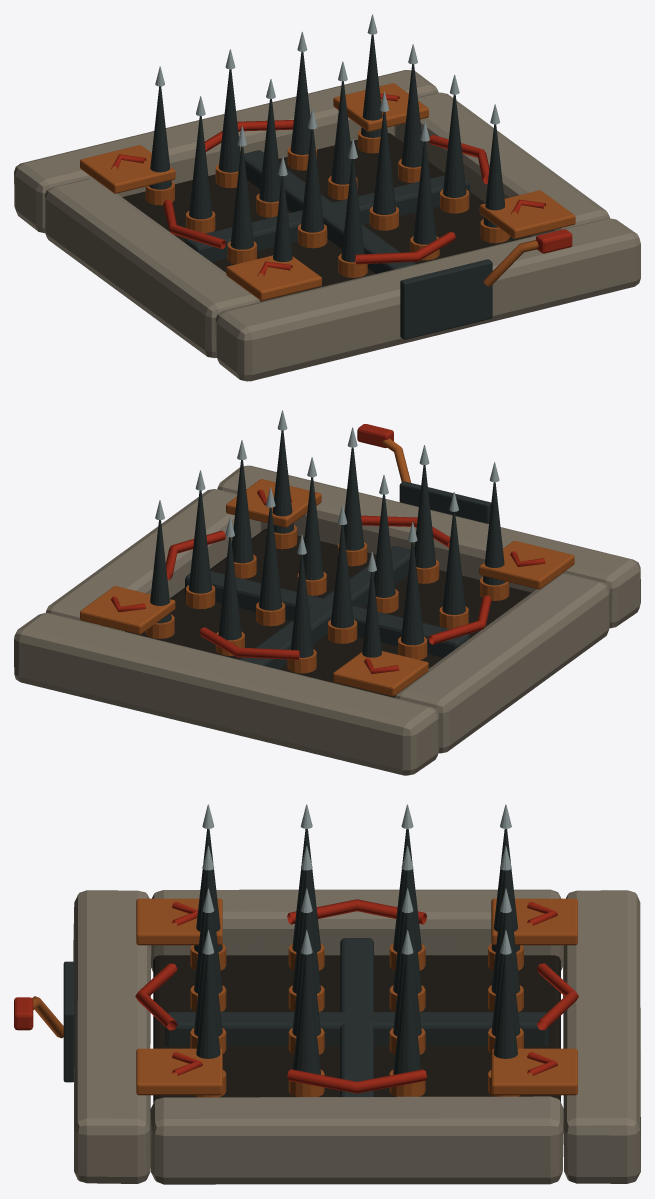
Rendered from spike_trap_LOD0.glb.
3 views of the same model, one above another, from view 1: azimuth 30°, elevation 25°; view 2: azimuth 150°, elevation 25°; view 3: azimuth 270°, elevation 25° (orthographic). The views are drawn at different scales.
Parts seen in each view (by area): view 1: SpikeTrapKerbSouth, SpikeTrapKerbWest, SpikeTrapKerbNorth, SpikeTrapMechanismPit, SpikeTrapKerbEast, SpikeTrapInspectionHatch, SpikeRackCrossFrameX, SpikeRackCrossFrameY, SpikeTrapPressurePlate, SpikeTrapPressurePlate.001, SpikeTrapPressurePlate.003, SpikeTrapPressurePlate.002 (+24 smaller); view 2: SpikeTrapKerbNorth, SpikeTrapKerbWest, SpikeTrapKerbSouth, SpikeTrapMechanismPit, SpikeTrapKerbEast, SpikeRackCrossFrameX, SpikeRackCrossFrameY, SpikeTrapPressurePlate.003, SpikeTrapPressurePlate.002, SpikeTrapPressurePlate, SpikeTrapPressurePlate.001, SpikeTrapInspectionHatch (+22 smaller); view 3: SpikeTrapKerbEast, SpikeTrapMechanismPit, SpikeTrapKerbNorth, SpikeTrapKerbSouth, SpikeTrapKerbWest, SpikeRackCrossFrameY, SpikeRackCrossFrameX, SpikeTrapPressurePlate.002, SpikeTrapPressurePlate.001, SpikeTrapPressurePlate, SpikeTrapPressurePlate.003, SpikeTrapForgedSpike.014 (+22 smaller).
Boxes of the visible parts, x1=… form: SpikeTrapKerbSouth: x1=215, y1=218, x2=640, y2=381; SpikeTrapKerbWest: x1=44, y1=178, x2=260, y2=358; SpikeTrapKerbNorth: x1=14, y1=70, x2=438, y2=233; SpikeTrapMechanismPit: x1=122, y1=133, x2=530, y2=301; SpikeTrapKerbEast: x1=394, y1=92, x2=609, y2=236; SpikeTrapInspectionHatch: x1=400, y1=259, x2=492, y2=339; SpikeRackCrossFrameX: x1=185, y1=175, x2=470, y2=261; SpikeRackCrossFrameY: x1=244, y1=150, x2=415, y2=273; SpikeTrapPressurePlate: x1=226, y1=255, x2=321, y2=300; SpikeTrapPressurePlate.001: x1=479, y1=190, x2=575, y2=238; SpikeTrapPressurePlate.003: x1=80, y1=145, x2=175, y2=193; SpikeTrapPressurePlate.002: x1=333, y1=83, x2=428, y2=131; SpikeTrapKerbNorth: x1=14, y1=613, x2=439, y2=775; SpikeTrapKerbWest: x1=395, y1=573, x2=609, y2=753; SpikeTrapKerbSouth: x1=217, y1=465, x2=640, y2=628; SpikeTrapMechanismPit: x1=125, y1=528, x2=531, y2=697; SpikeTrapKerbEast: x1=46, y1=489, x2=261, y2=631; SpikeRackCrossFrameX: x1=185, y1=571, x2=469, y2=657; SpikeRackCrossFrameY: x1=239, y1=546, x2=410, y2=669; SpikeTrapPressurePlate.003: x1=333, y1=651, x2=428, y2=696; SpikeTrapPressurePlate.002: x1=80, y1=586, x2=175, y2=634; SpikeTrapPressurePlate: x1=479, y1=541, x2=574, y2=589; SpikeTrapPressurePlate.001: x1=226, y1=479, x2=321, y2=527; SpikeTrapInspectionHatch: x1=399, y1=481, x2=491, y2=523; SpikeTrapKerbEast: x1=150, y1=1096, x2=563, y2=1184; SpikeTrapMechanismPit: x1=153, y1=955, x2=560, y2=1102; SpikeTrapKerbNorth: x1=563, y1=890, x2=640, y2=1183; SpikeTrapKerbSouth: x1=73, y1=890, x2=151, y2=1183; SpikeTrapKerbWest: x1=151, y1=889, x2=563, y2=971; SpikeRackCrossFrameY: x1=165, y1=1012, x2=548, y2=1046; SpikeRackCrossFrameX: x1=340, y1=938, x2=373, y2=1096; SpikeTrapPressurePlate.002: x1=491, y1=1048, x2=577, y2=1095; SpikeTrapPressurePlate.001: x1=136, y1=1048, x2=222, y2=1095; SpikeTrapPressurePlate: x1=136, y1=898, x2=222, y2=945; SpikeTrapPressurePlate.003: x1=491, y1=898, x2=577, y2=945; SpikeTrapForgedSpike.014: x1=393, y1=954, x2=421, y2=1074.
Bounding box in the file's own units: 2.36 × 0.97 × 2.61.
